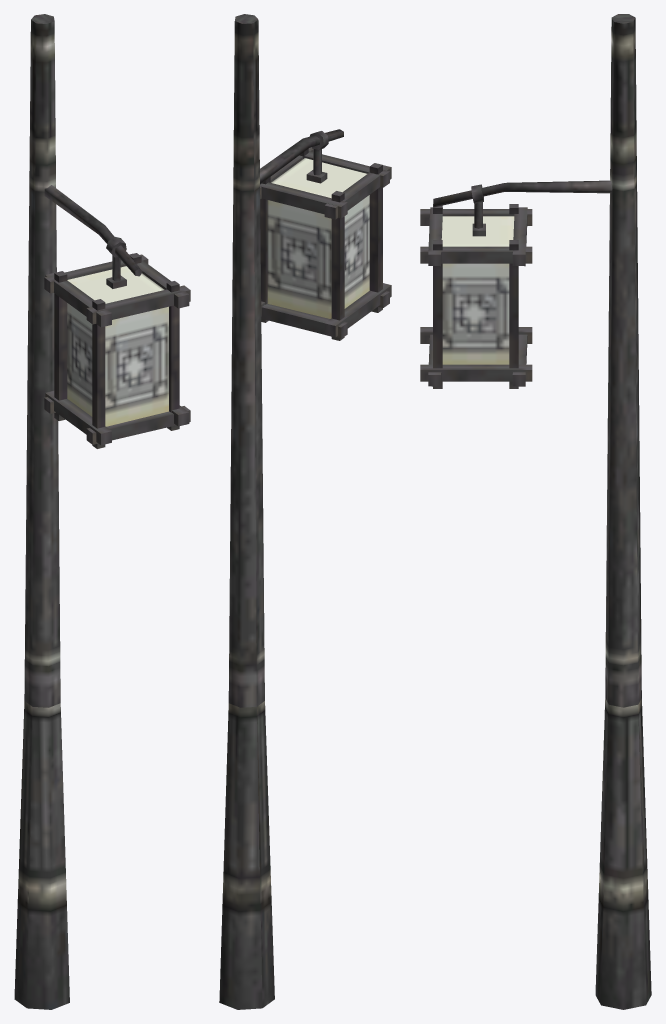
Rendered from ob-b1-013-lamp02.fbx.
3 views of the same model, side by side, from view 1: azimuth 30°, elevation 25°; view 2: azimuth 150°, elevation 25°; view 3: azimuth 270°, elevation 25° (orthographic).
Parts seen in each view (by area): view 1: lamp02; view 2: lamp02; view 3: lamp02.
Boxes of the visible parts, x1,y1,x2,y2 form: lamp02: [14, 14, 190, 1009]; lamp02: [219, 14, 391, 1009]; lamp02: [420, 14, 651, 1009].
Size of the model in its own units: 0.635 by 6.12 by 1.31.
